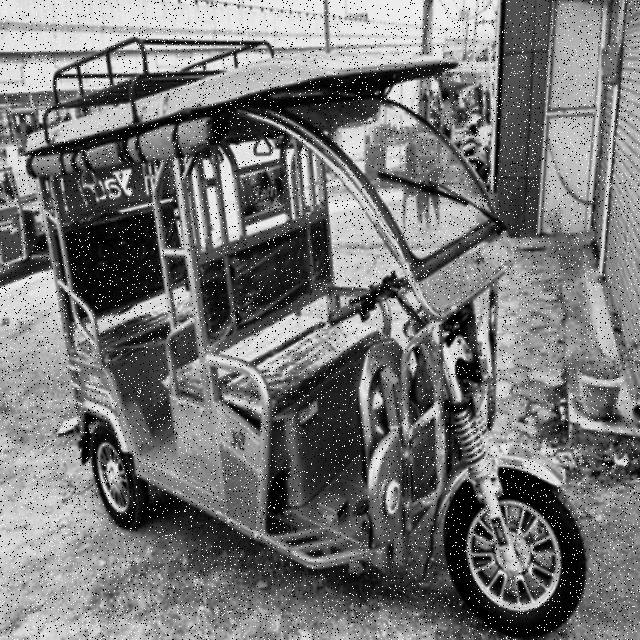Toto: (27, 53, 591, 640)
